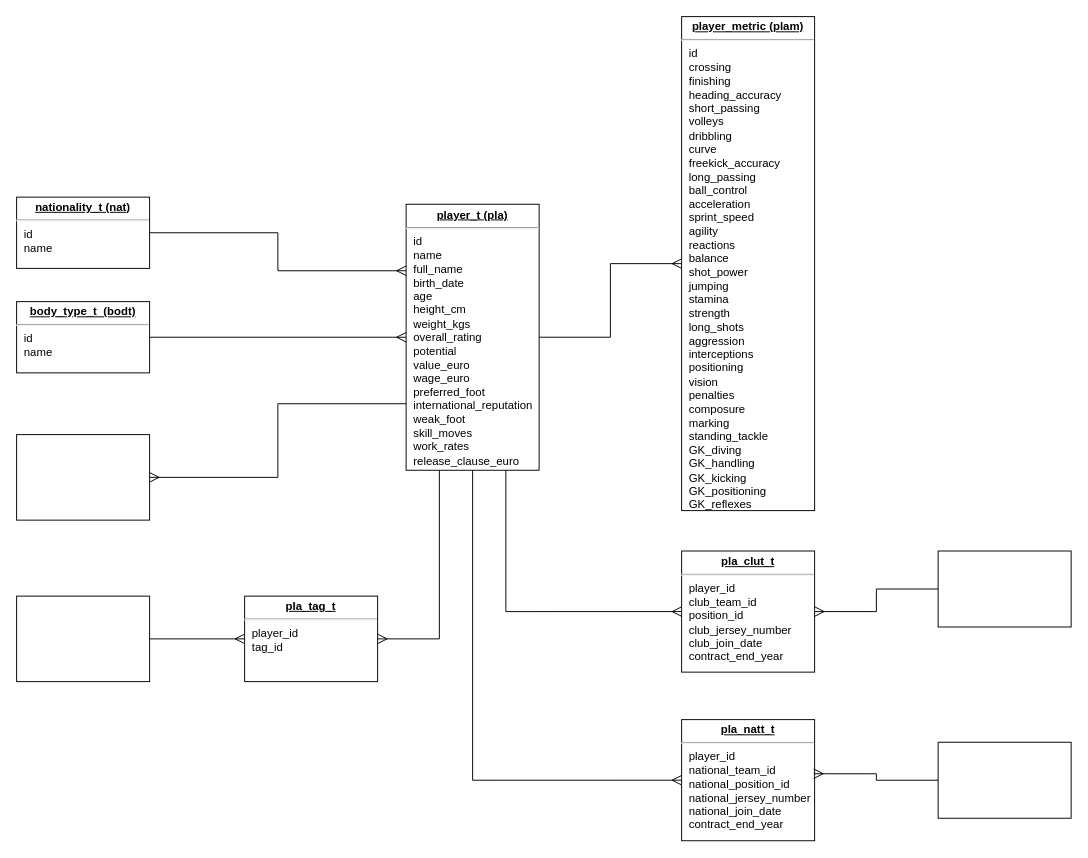
The diagram is 1088 pixels wide and 858 high, and some of its shapes have lost their labels. The centre of each missing label's shape, as x and y in pixels:
"club_team_t (clut) id name rating" belongs at [1004,588].
"national_team_t (natt) id name rating" belongs at [1004,779].
"player_position_t player_id position_id index" belongs at [83,477].
"tag_t id name" belongs at [83,638].
